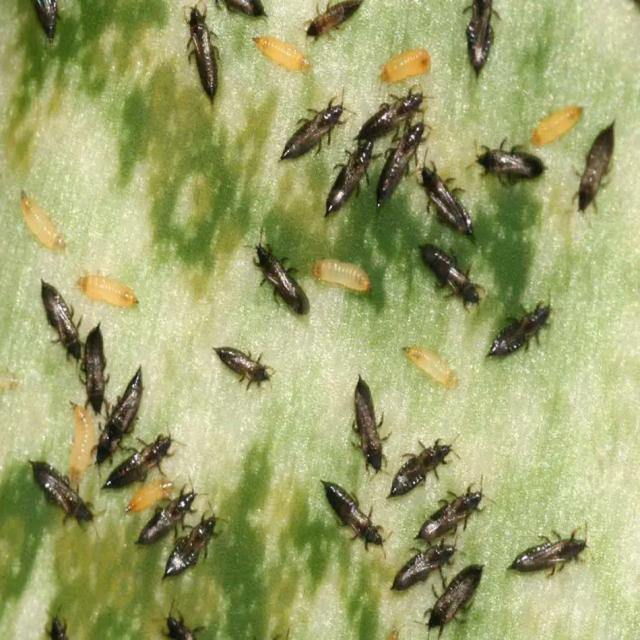Thrip-Adult-: (410, 226, 498, 316), (91, 421, 195, 495), (476, 286, 574, 364), (96, 357, 162, 465), (311, 470, 389, 558), (246, 225, 315, 324), (565, 114, 628, 218), (19, 453, 99, 532), (343, 375, 395, 485), (387, 432, 465, 505), (320, 134, 382, 222), (374, 113, 428, 214), (280, 89, 352, 164), (423, 556, 492, 633), (510, 516, 589, 582), (416, 158, 477, 242), (198, 332, 282, 392), (163, 502, 220, 587), (36, 268, 84, 362), (134, 480, 200, 548), (378, 543, 467, 591), (180, 5, 224, 101), (409, 489, 493, 539), (356, 85, 425, 144), (468, 135, 547, 183), (72, 320, 112, 413)
Thrip-Larva-: (8, 178, 70, 251), (58, 394, 99, 494), (250, 24, 316, 86), (395, 339, 464, 398), (522, 99, 592, 154), (378, 29, 440, 85), (303, 250, 377, 296), (71, 268, 149, 308)
